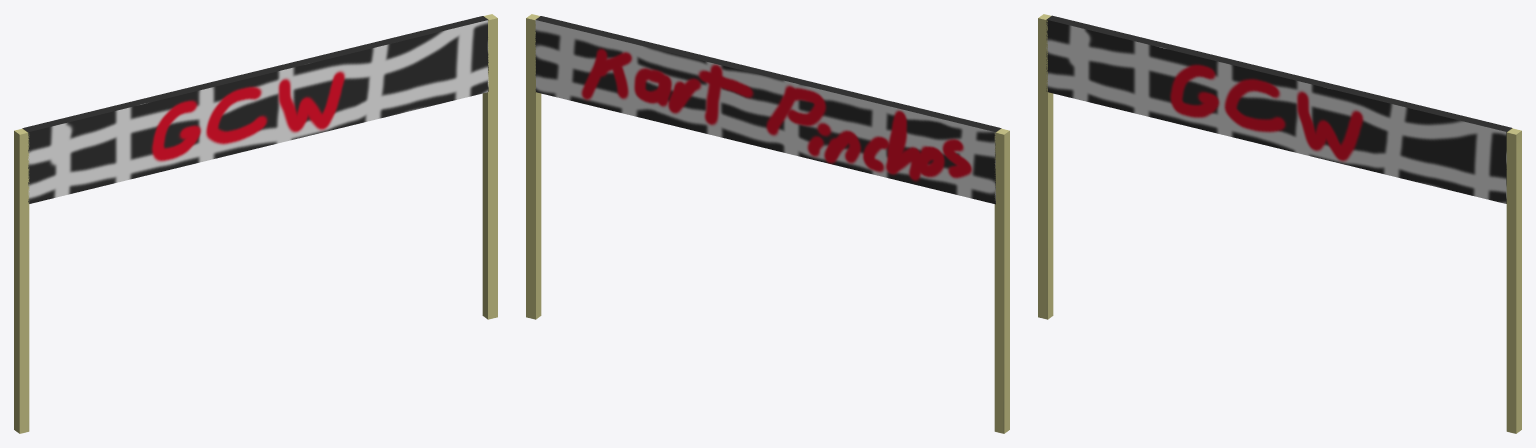
The model's file is Meta.fbx.
3 views of the same model, side by side, from view 1: azimuth 30°, elevation 25°; view 2: azimuth 150°, elevation 25°; view 3: azimuth 330°, elevation 25° (orthographic).
Visible parts, largest first — view 1: Cube.008; view 2: Cube.008; view 3: Cube.008.
Part boxes in pixels (<box>): Cube.008: <box>14,14,497,433</box>; Cube.008: <box>526,14,1009,433</box>; Cube.008: <box>1038,14,1521,433</box>.
Bounding box in the file's own units: 945 × 566 × 19.24.
Materials: 1 (1 with a texture image).
